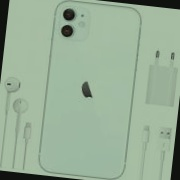iphone: (46, 3, 135, 177)
